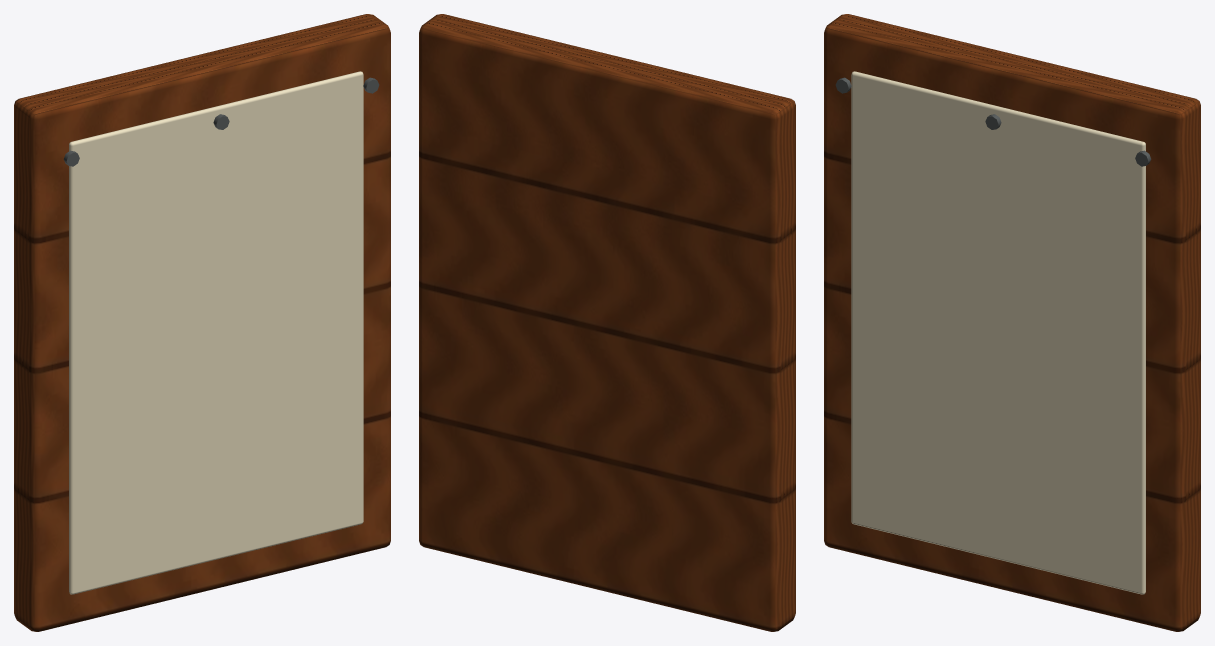
The model's file is adventurers-tavern-and-guild-hall-wanted-poster-frame-4ba62a96__24753.glb.
3 renders of one model, left to right at view 1: azimuth 30°, elevation 25°; view 2: azimuth 150°, elevation 25°; view 3: azimuth 330°, elevation 25°, orthographic.
Parts seen in each view (by area): view 1: wanted-poster-frame; view 2: wanted-poster-frame; view 3: wanted-poster-frame.
Boxes of the visible parts, x1=… form: wanted-poster-frame: x1=14, y1=14, x2=390, y2=631; wanted-poster-frame: x1=419, y1=14, x2=795, y2=631; wanted-poster-frame: x1=824, y1=14, x2=1200, y2=631.
Size of the model in its own units: 0.65 by 0.9 by 0.099.
3 materials, 1 textured.
